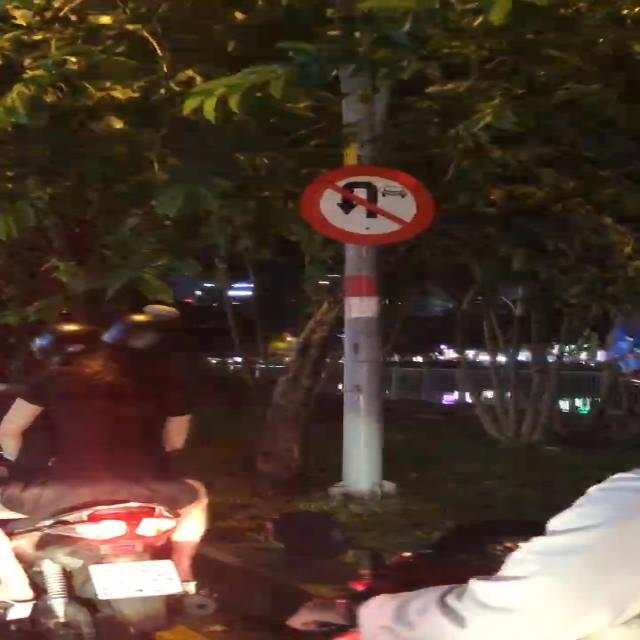Bien bao cam quay dau xe: (300, 163, 436, 247)
